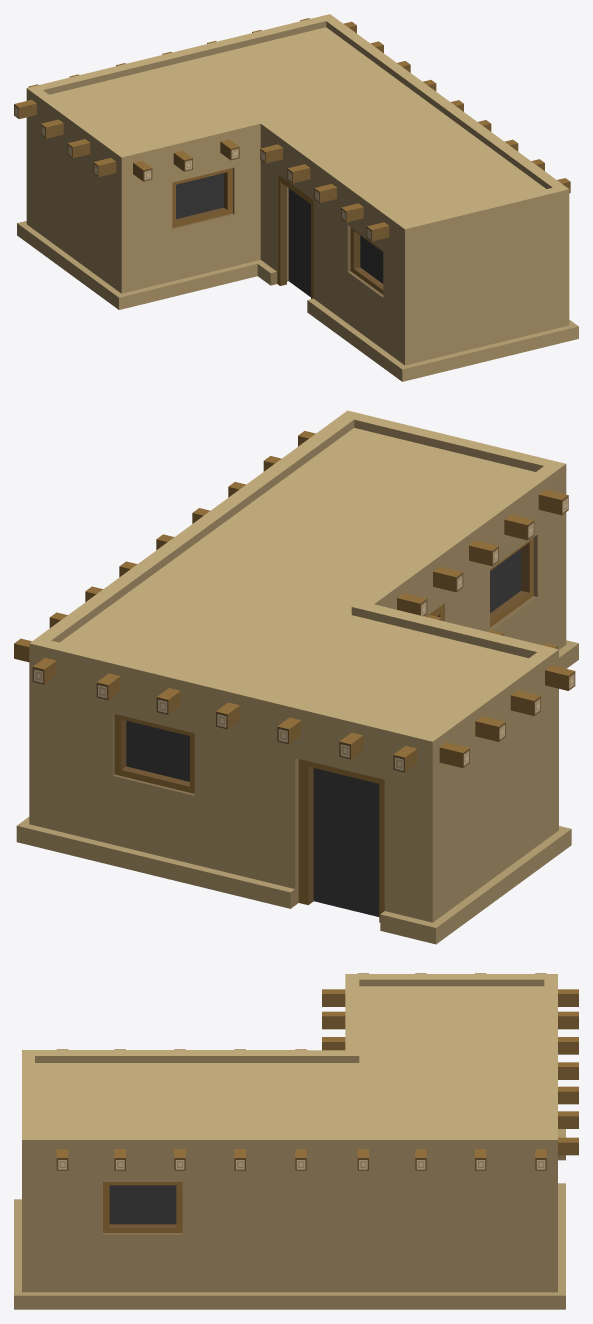
The model's file is SM_Bld_Mud_Hut_02.fbx.
The picture shows the model from 3 angles, top to bottom: view 1: azimuth 30°, elevation 25°; view 2: azimuth 150°, elevation 25°; view 3: azimuth 270°, elevation 25°; orthographic projection. The views are drawn at different scales.
Parts seen in each view (by area): view 1: SM_Bld_Mud_Hut_02; view 2: SM_Bld_Mud_Hut_02; view 3: SM_Bld_Mud_Hut_02.
Boxes of the visible parts, x1=… form: SM_Bld_Mud_Hut_02: x1=14, y1=14, x2=578, y2=381; SM_Bld_Mud_Hut_02: x1=14, y1=410, x2=578, y2=944; SM_Bld_Mud_Hut_02: x1=14, y1=973, x2=578, y2=1309.
Size of the model in its own units: 10.92 by 4.59 by 14.12.
